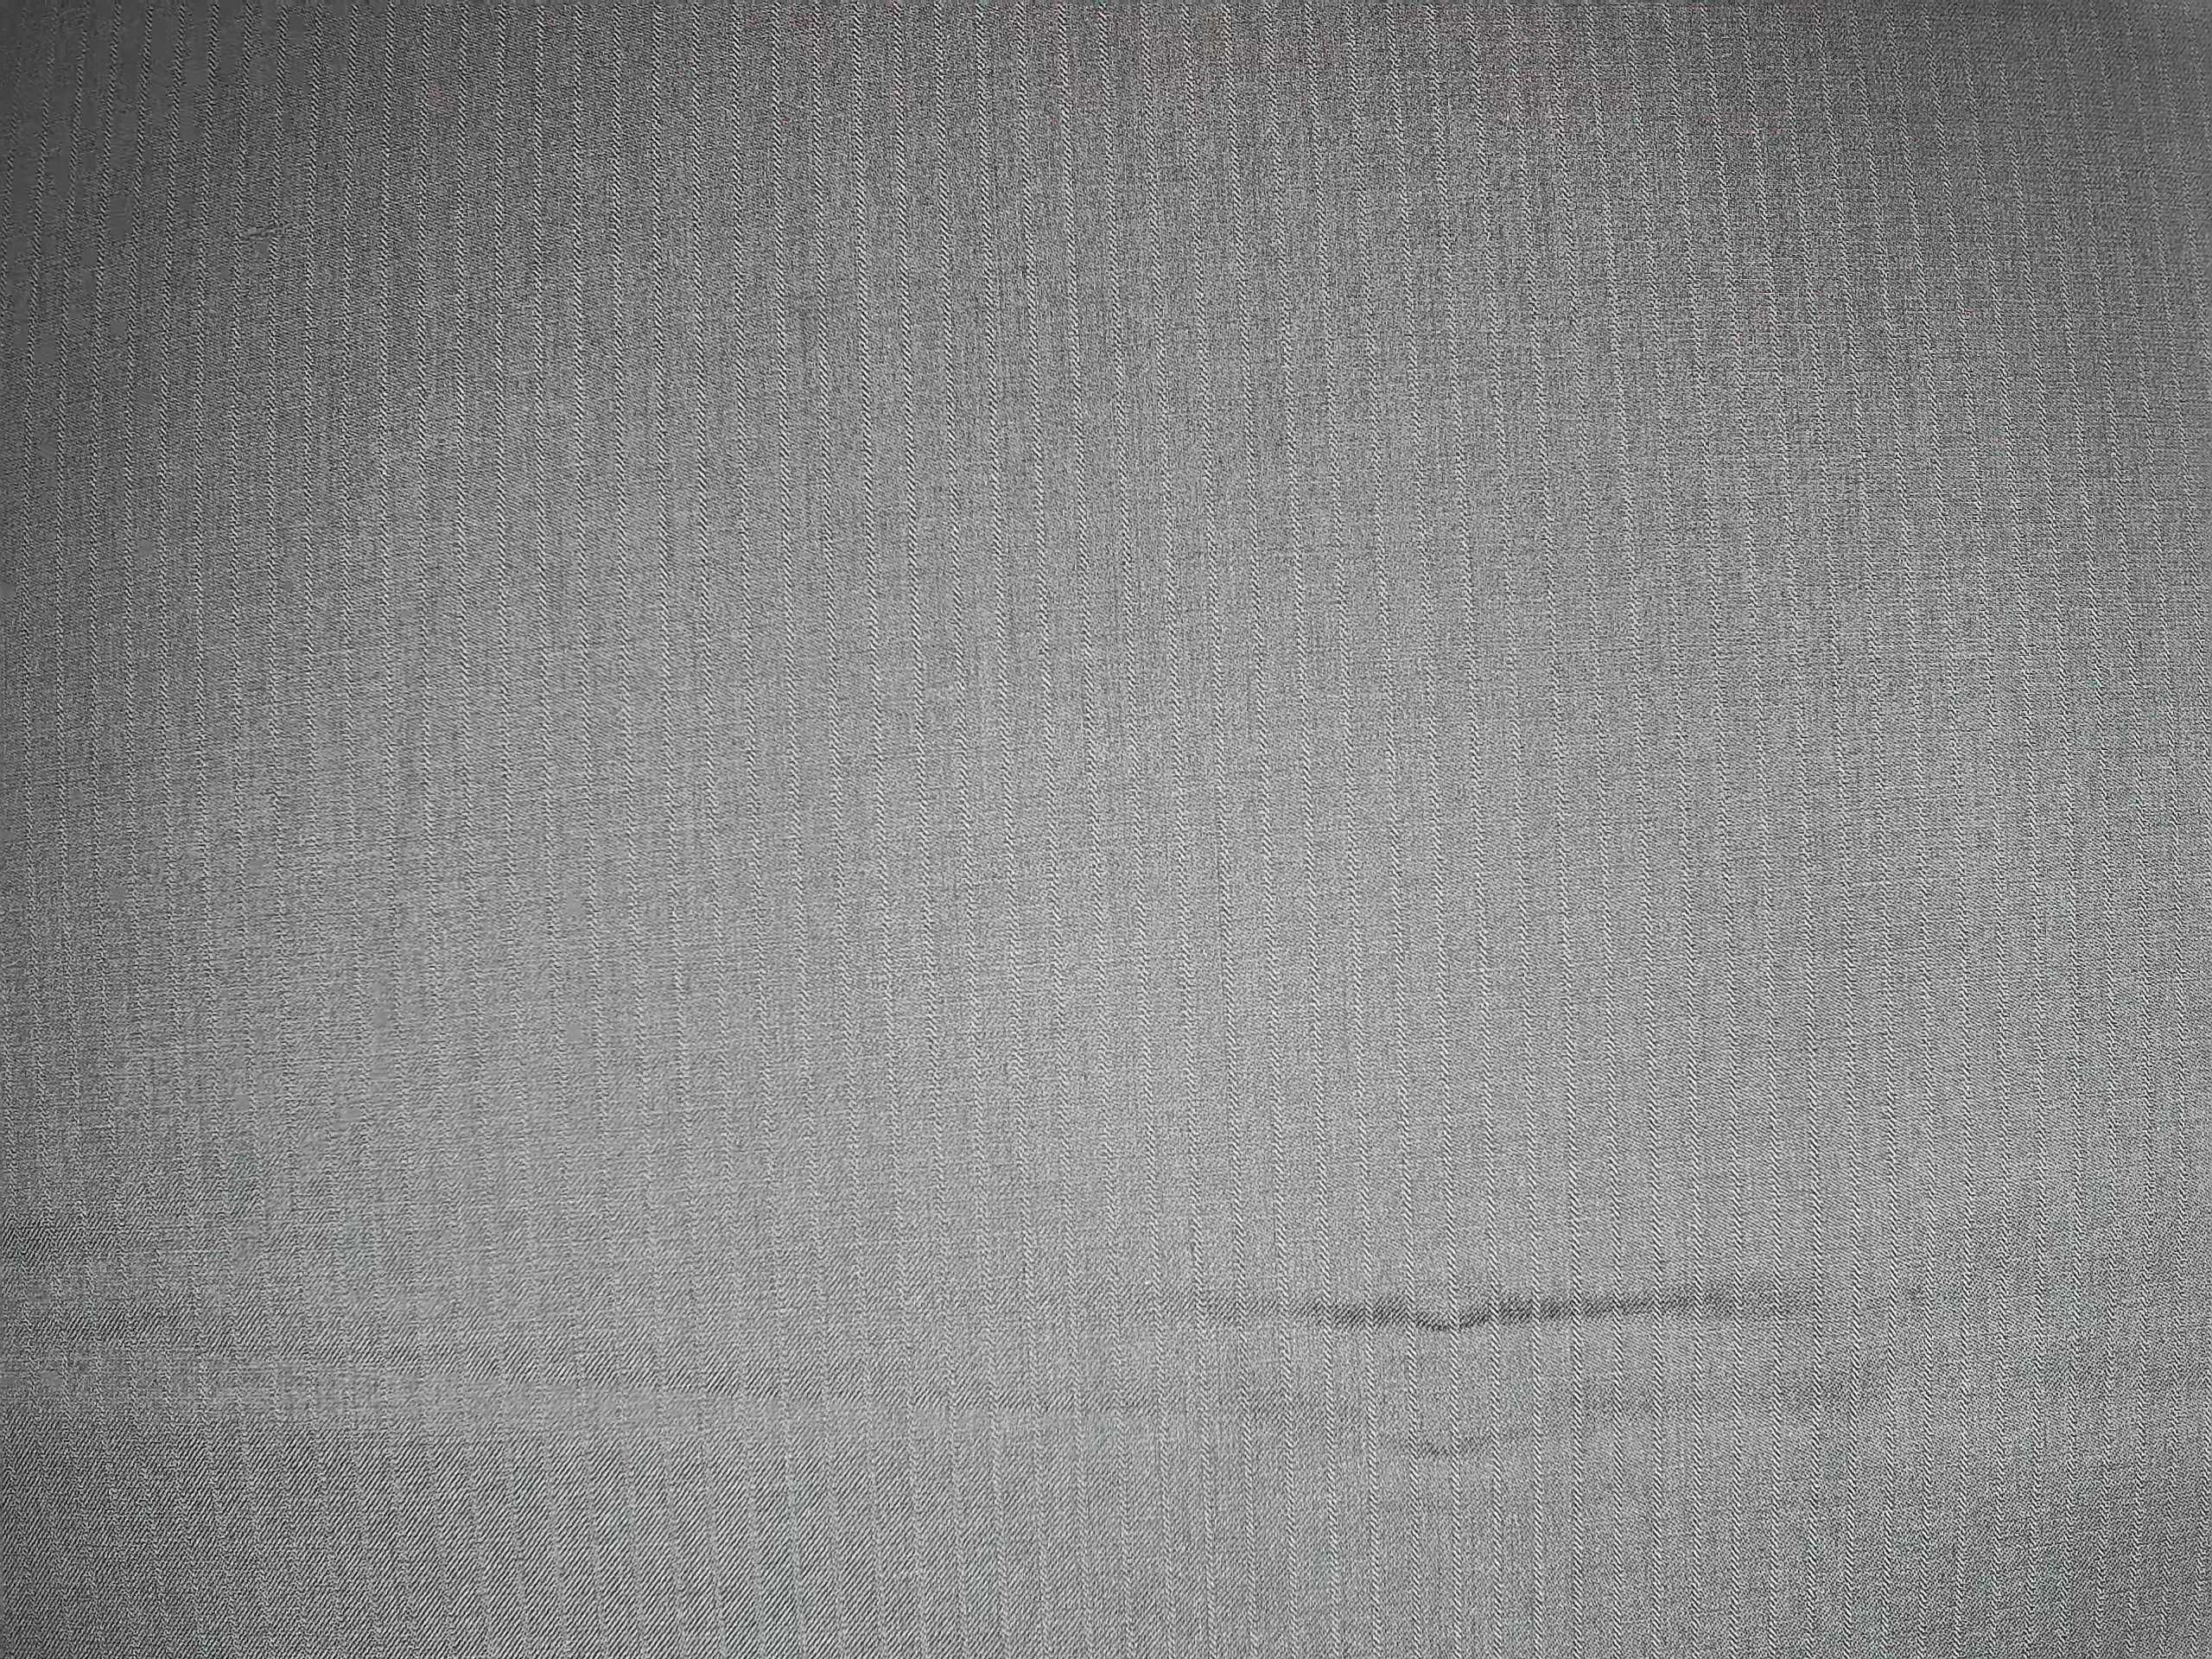thin-spinning: (223, 185, 326, 265)
